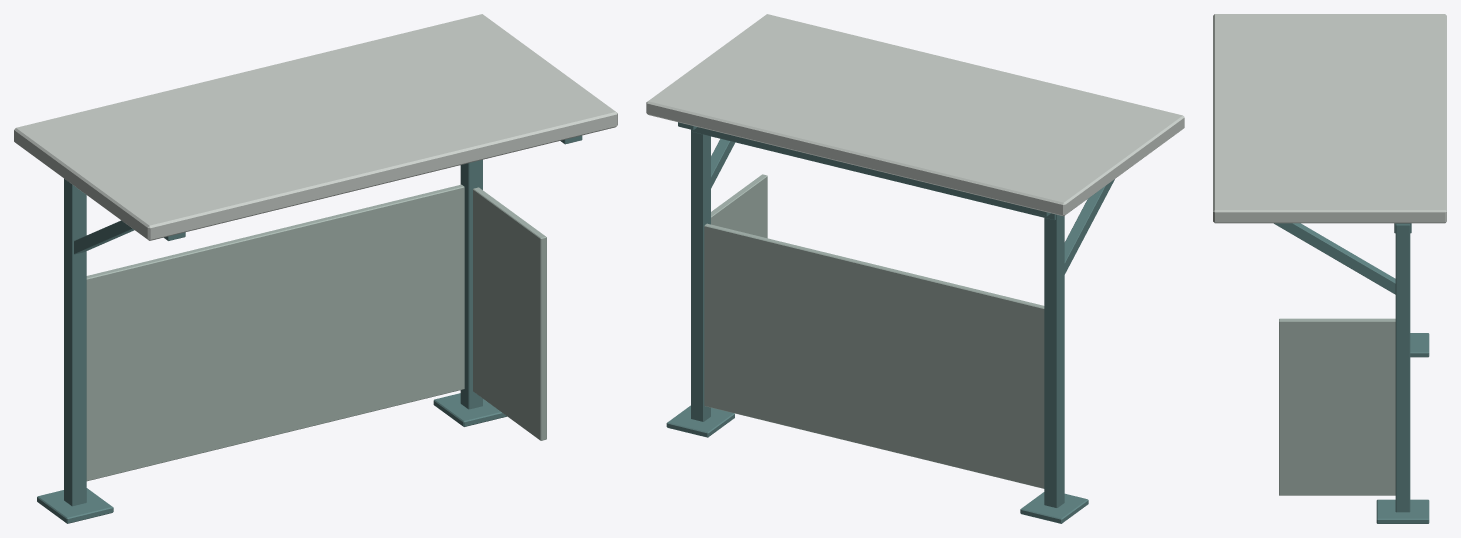
3 views of the same model, side by side, from view 1: azimuth 30°, elevation 25°; view 2: azimuth 150°, elevation 25°; view 3: azimuth 270°, elevation 25° (orthographic). The views are drawn at different scales.
Visible parts, largest first — view 1: Low back wind panel, Broad opaque shelter roof, Short right wind panel, Rear support column -1.35, Rear support column 1.35, Rear ground foot -1.35, Rear ground foot 1.35, Visible diagonal roof brace -1.35; view 2: Low back wind panel, Broad opaque shelter roof, Rear support column -1.35, Rear support column 1.35, Rear continuous roof header, Short right wind panel, Visible diagonal roof brace -1.35, Rear ground foot -1.35, Rear ground foot 1.35; view 3: Broad opaque shelter roof, Short right wind panel, Rear support column 1.35, Visible diagonal roof brace 1.35, Rear ground foot 1.35, Rear ground foot -1.35.
Part boxes in pixels (box(x1,y1,x2,y2)): Low back wind panel: box(86, 184, 464, 481); Broad opaque shelter roof: box(14, 14, 617, 240); Short right wind panel: box(473, 187, 546, 440); Rear support column -1.35: box(64, 178, 86, 506); Rear support column 1.35: box(460, 159, 482, 409); Rear ground foot -1.35: box(37, 488, 113, 523); Rear ground foot 1.35: box(433, 393, 506, 426); Visible diagonal roof brace -1.35: box(74, 220, 134, 254); Low back wind panel: box(704, 223, 1044, 488); Broad opaque shelter roof: box(646, 14, 1184, 216); Rear support column -1.35: box(1044, 214, 1064, 507); Rear support column 1.35: box(691, 130, 710, 421); Rear continuous roof header: box(691, 127, 1055, 220); Short right wind panel: box(711, 174, 767, 238); Visible diagonal roof brace -1.35: box(1064, 179, 1114, 274); Rear ground foot -1.35: box(1020, 492, 1088, 523); Rear ground foot 1.35: box(666, 405, 734, 437); Broad opaque shelter roof: box(1213, 14, 1446, 223); Short right wind panel: box(1279, 318, 1395, 495); Rear support column 1.35: box(1395, 224, 1410, 512); Visible diagonal roof brace 1.35: box(1274, 223, 1395, 294); Rear ground foot 1.35: box(1376, 499, 1429, 523); Rear ground foot -1.35: box(1410, 333, 1429, 357).
Size of the model in its own units: 3.2 by 2.41 by 1.6.
